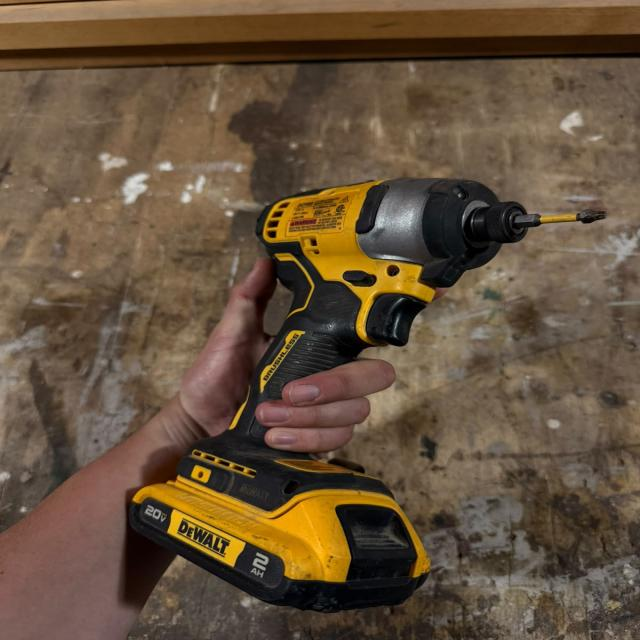Rotomartillo: (77, 146, 555, 614)
